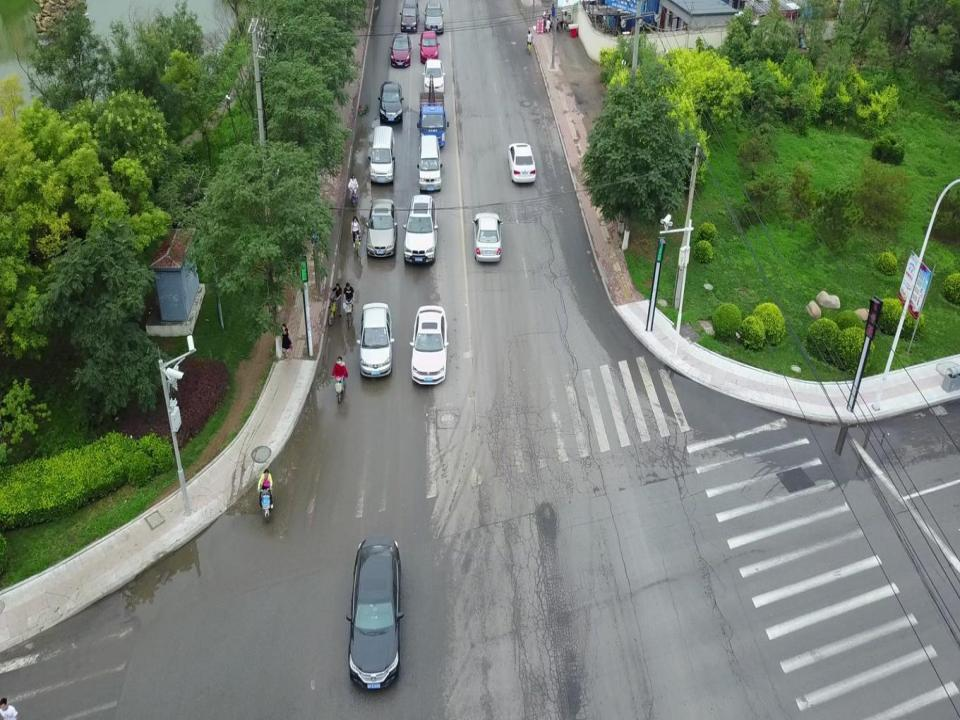car: (346, 537, 404, 690), (410, 305, 450, 385), (356, 302, 394, 378), (402, 194, 438, 264), (365, 198, 397, 258), (471, 212, 503, 262), (507, 142, 536, 184), (378, 81, 404, 122), (422, 59, 446, 96), (390, 32, 412, 68), (418, 30, 440, 64), (424, 0, 444, 34), (331, 366, 345, 404), (349, 185, 359, 207)
van: (367, 126, 395, 184), (416, 135, 442, 191), (399, 0, 419, 32)
